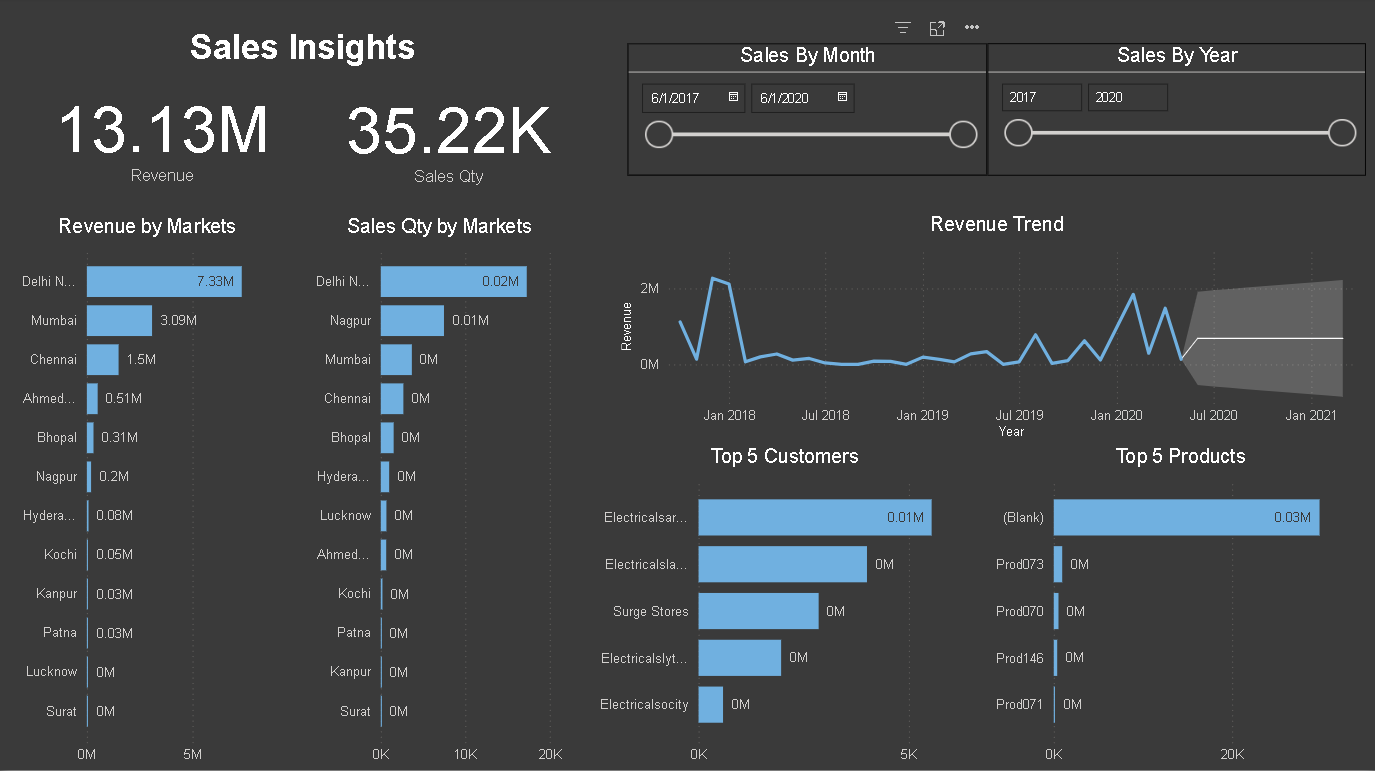

The page's visual inventory and layout, read from the dashboard file:
{"tool":"powerbi","page":{"name":"Page 1","canvas":[1280,720],"ordinal":0},"visuals":[{"type":"card","fields":{"Values":["Base Measures.Revenue"]},"box":[0,78.4,302.8,100.1],"z":0},{"type":"card","fields":{"Values":["Base Measures.Sales Qty"]},"box":[272.7,72.4,290.8,113.4],"z":1000},{"type":"barChart","title":"Revenue by Markets","fields":{"Y":["Base Measures.Revenue"],"Category":["sales markets.markets_name"]},"box":[0,201.8,273.9,518.5],"z":2000},{"type":"barChart","title":"Sales Qty by Markets","fields":{"Y":["Base Measures.Sales Qty"],"Category":["sales markets.markets_name"]},"box":[273.9,201.8,269,518.5],"z":3000},{"type":"barChart","title":"Top 5 Customers","fields":{"Y":["Base Measures.Sales Qty"],"Category":["sales customers.custmer_name"]},"box":[543.4,415.8,374.6,304.6],"z":6000},{"type":"barChart","title":"Top 5 Products","fields":{"Y":["Base Measures.Sales Qty"],"Category":["sales products.product_code"]},"box":[918,415.8,362.3,304.6],"z":7000},{"type":"lineChart","title":"Revenue Trend","fields":{"Y":["Base Measures.Revenue"],"Category":["sales date.cy_date.Variation.Date Hierarchy.Year","sales date.cy_date.Variation.Date Hierarchy.Quarter","sales date.cy_date.Variation.Date Hierarchy.Month","sales date.cy_date.Variation.Date Hierarchy.Day"]},"box":[573.1,201.5,707,214.7],"z":8000},{"type":"slicer","title":"Sales By Month","fields":{"Values":["sales date.cy_date"]},"box":[583.9,43.4,334.2,123.1],"z":8001},{"type":"slicer","title":"Sales By Year","fields":{"Values":["sales date.year"]},"box":[918.1,43.4,352.3,123.1],"z":8002},{"type":"textbox","box":[0,7.2,563.4,71.2],"z":8003}]}

Visuals, with their boxes in screenshot pixels (x1, y1, x2, y2), scaled from the page's 1280x720 canvas onto the 1375x771 screenshot:
card - Base Measures.Revenue: (0, 84, 325, 191)
card - Base Measures.Sales Qty: (293, 78, 605, 199)
"Revenue by Markets" barChart: (0, 216, 294, 770)
"Sales Qty by Markets" barChart: (294, 216, 583, 770)
"Top 5 Customers" barChart: (584, 445, 986, 770)
"Top 5 Products" barChart: (986, 445, 1374, 770)
"Revenue Trend" lineChart: (616, 216, 1374, 446)
"Sales By Month" slicer: (627, 46, 986, 178)
"Sales By Year" slicer: (986, 46, 1365, 178)
textbox: (0, 8, 605, 84)
